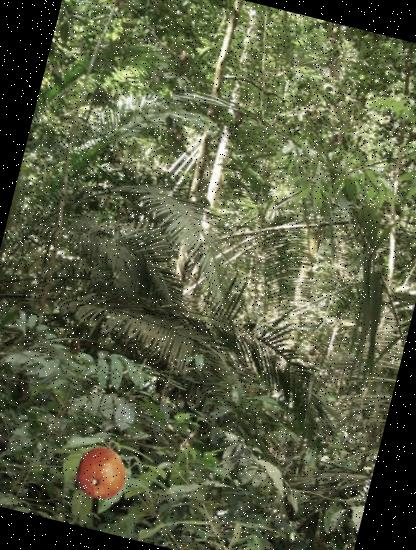Clementine: (67, 440, 134, 507)
